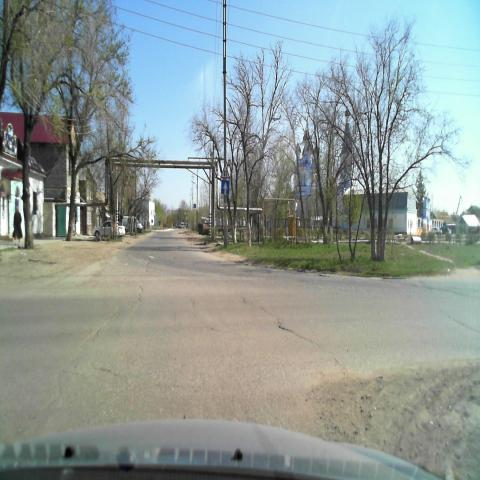1_21: (220, 164, 230, 178)
